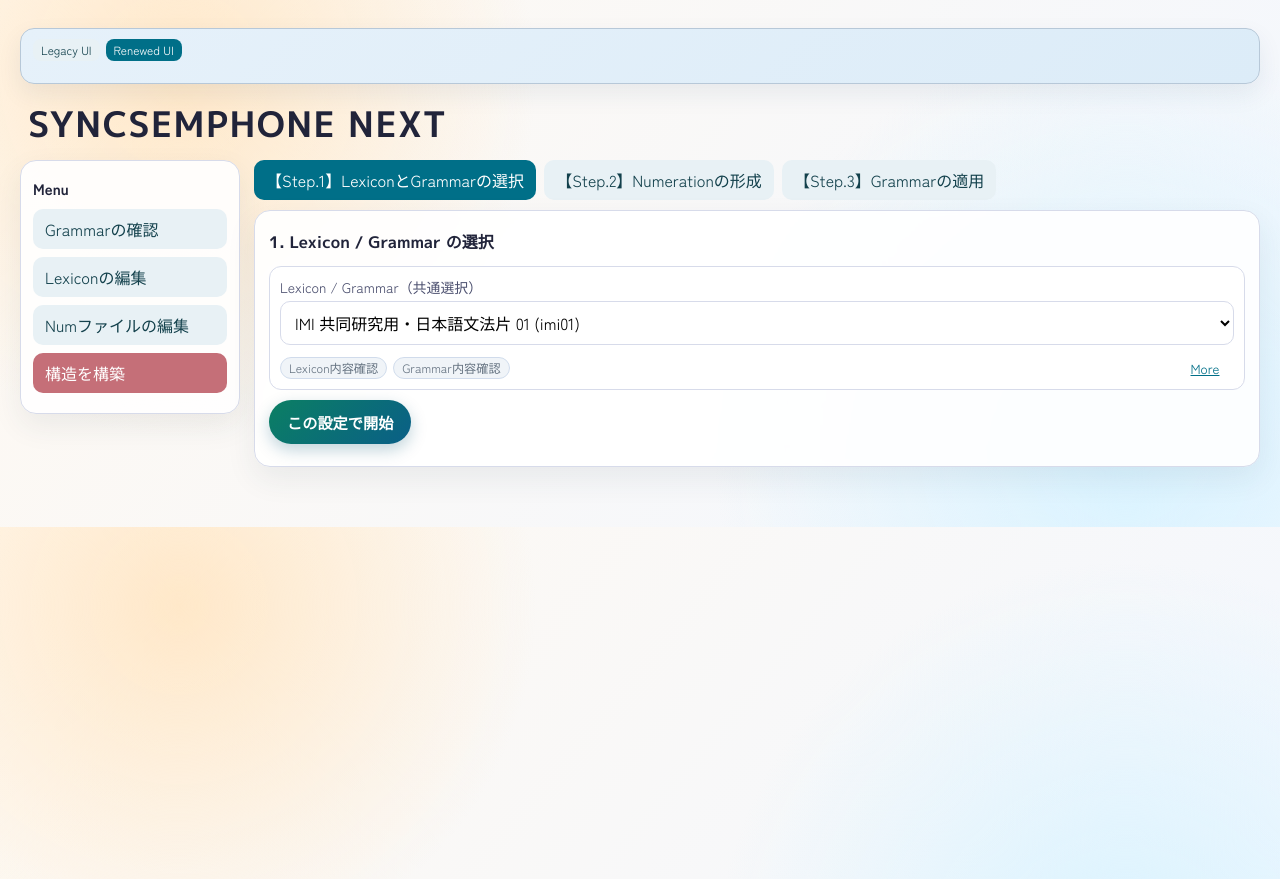
Test case: App › shows auto split result immediately after Step0 start without mode toggle
The width and height of the screenshot is (1280, 879).
Click the button "この設定で開始" at point(340, 422), box [269,400,411,444]
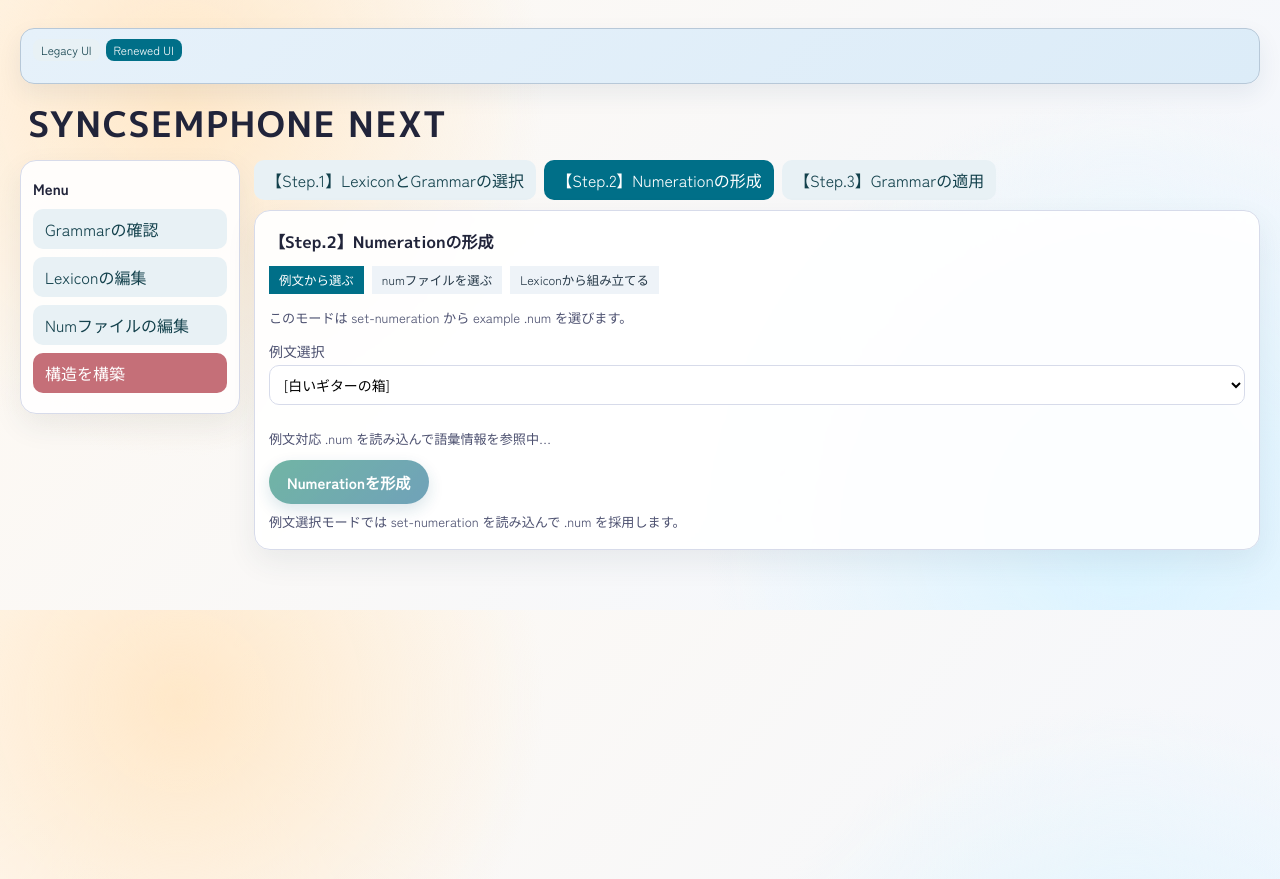
Click the button "Lexiconから組み立てる" at point(585, 280), box [510,266,659,294]
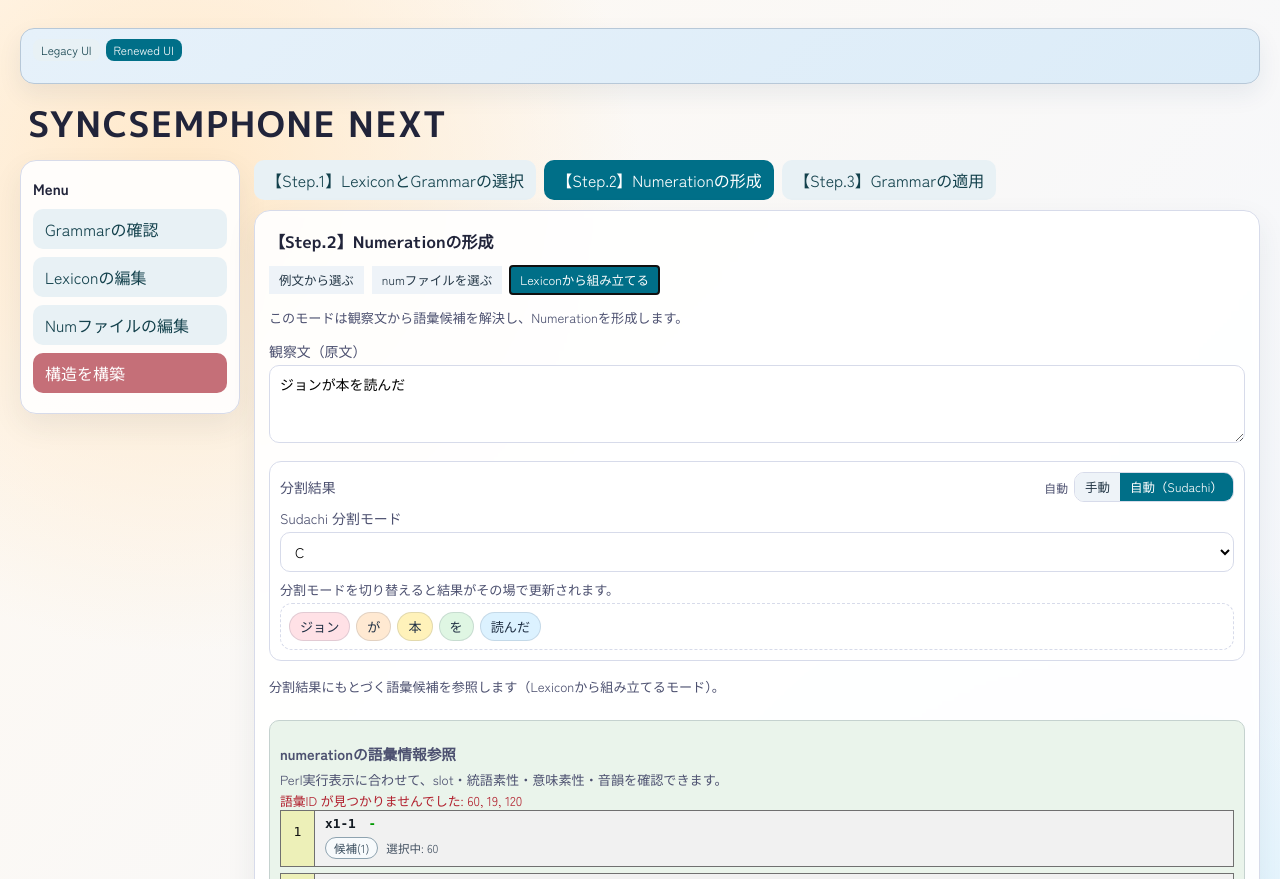
expect the element with test id "token-chip-row" does not show "（まだ分割結果がありません）": met, box [280,603,1234,650]
expect the element with test id "token-chip-row" shows "ジョン": met, box [300,617,339,636]
expect the element with test id "token-chip-row" shows "読んだ": met, box [491,617,530,636]
